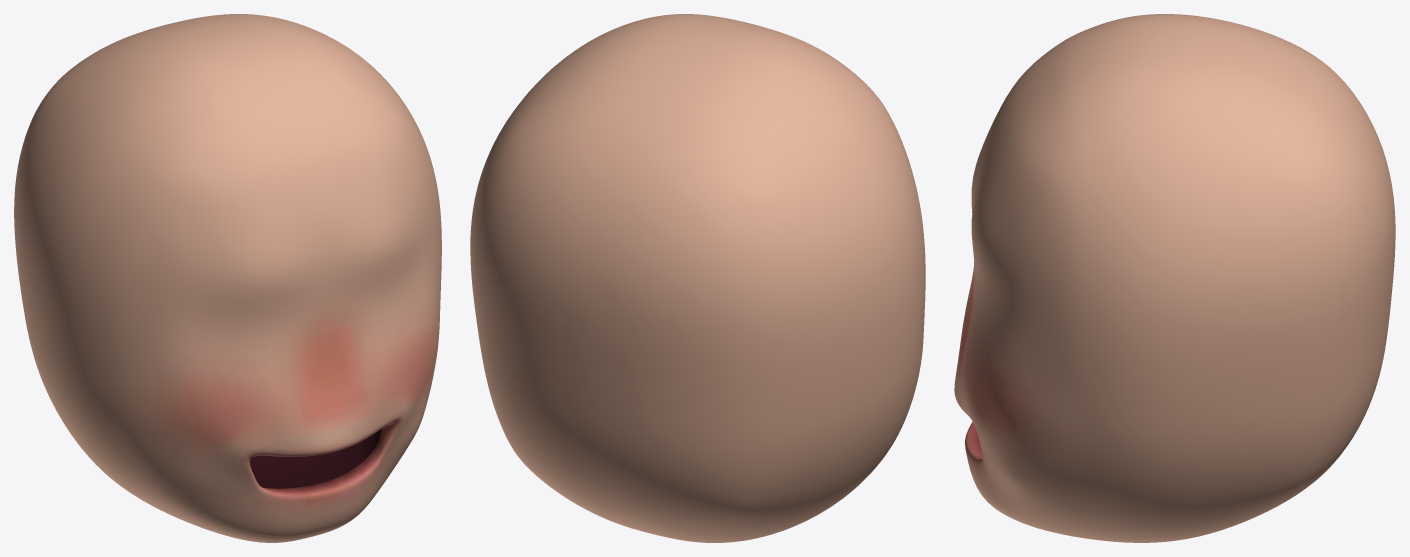
File: head1.glb
The picture shows the model from 3 angles, left to right: view 1: azimuth 30°, elevation 25°; view 2: azimuth 150°, elevation 25°; view 3: azimuth 270°, elevation 25°; orthographic projection. The views are drawn at different scales.
Visible parts, largest first — view 1: head.001; view 2: head.001; view 3: head.001.
Part boxes in pixels (left/top/right/bottom): head.001: left=14, top=14, right=441, bottom=542; head.001: left=470, top=14, right=925, bottom=542; head.001: left=954, top=14, right=1395, bottom=542.
Size of the model in its own units: 1.35 by 1.62 by 1.34.
Materials: 1 (1 with a texture image).
